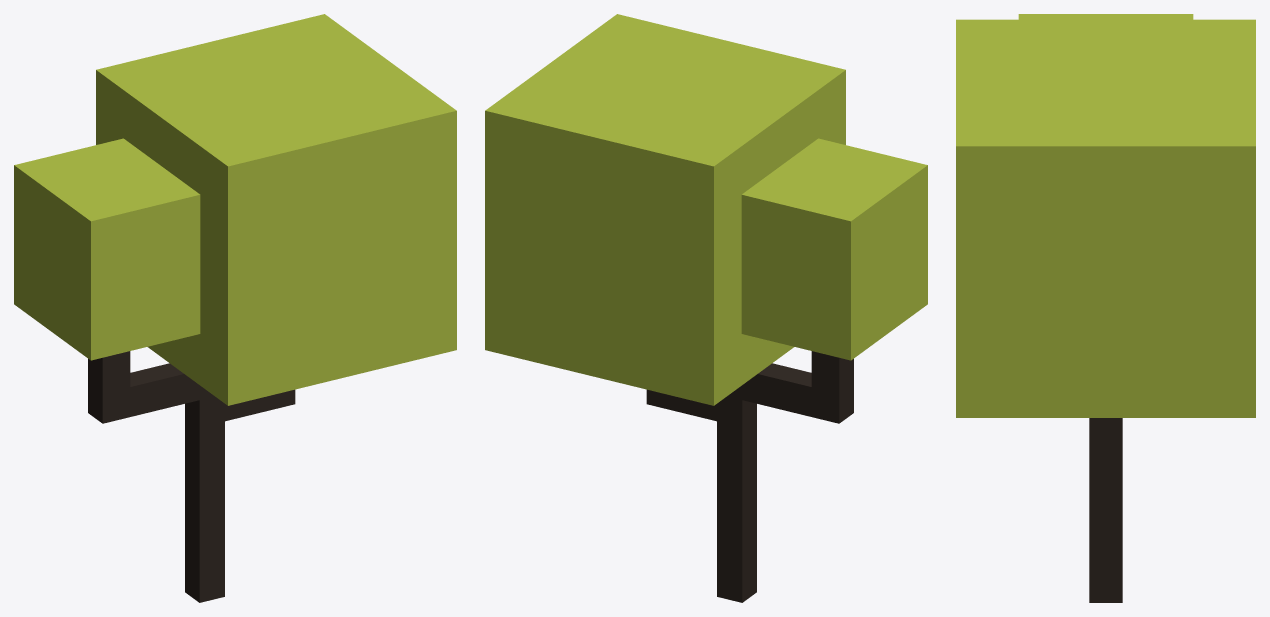
File: tree_2.fbx
The picture shows the model from 3 angles, left to right: view 1: azimuth 30°, elevation 25°; view 2: azimuth 150°, elevation 25°; view 3: azimuth 270°, elevation 25°; orthographic projection. The views are drawn at different scales.
Visible parts, largest first — view 1: Tree_2; view 2: Tree_2; view 3: Tree_2.
Boxes of the visible parts, box(x1,y1,x2,y2) form: Tree_2: box(14, 14, 456, 602); Tree_2: box(485, 14, 927, 602); Tree_2: box(956, 14, 1255, 602).
Bounding box in the file's own units: 518 × 712 × 350.
